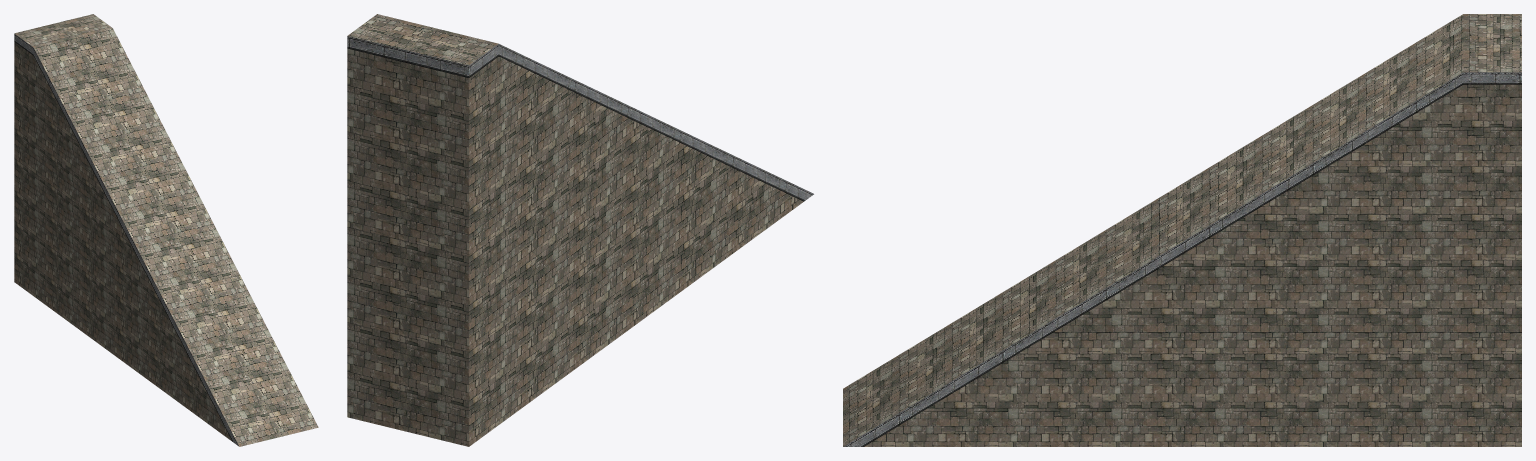
File: S_dcr5.glb
3 views of the same model, side by side, from view 1: azimuth 30°, elevation 25°; view 2: azimuth 150°, elevation 25°; view 3: azimuth 270°, elevation 25° (orthographic). The views are drawn at different scales.
Parts seen in each view (by area): view 1: S_dcr5; view 2: S_dcr5; view 3: S_dcr5.
Part boxes in pixels (box(x1,y1,x2,y2)): S_dcr5: box(14, 14, 318, 446); S_dcr5: box(347, 14, 813, 446); S_dcr5: box(843, 14, 1521, 446).
Bounding box in the file's own units: 4 × 12 × 19.7.
Materials: 2 (2 with a texture image).
